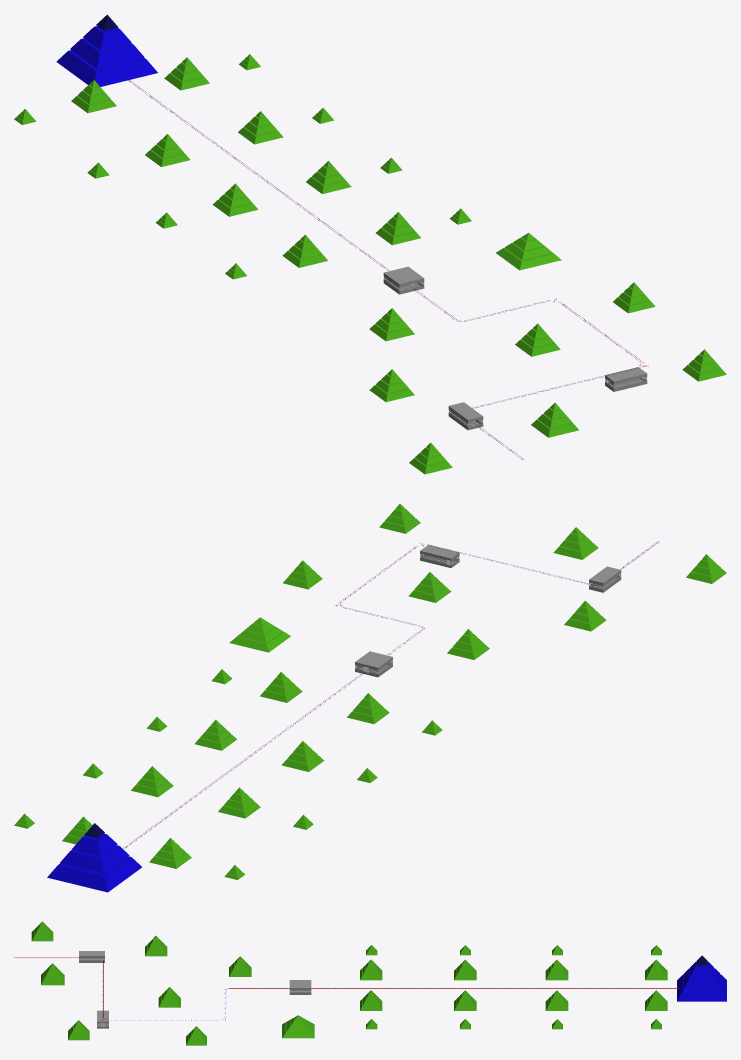
Rendered from Level.FBX.
The picture shows the model from 3 angles, top to bottom: view 1: azimuth 30°, elevation 25°; view 2: azimuth 150°, elevation 25°; view 3: azimuth 270°, elevation 25°; orthographic projection. The views are drawn at different scales.
Parts seen in each view (by area): view 1: Pyramid, Pyramid024, Pyramid002, Box003, Pyramid011, Pyramid012, Pyramid009, Pyramid010, Pyramid013, Pyramid006, Pyramid014, Pyramid015 (+6 smaller); view 2: Pyramid, Pyramid024, Pyramid002, Box003, Pyramid008, Pyramid010, Pyramid014, Pyramid015, Pyramid007, Pyramid009, Pyramid013, Pyramid011 (+6 smaller); view 3: Pyramid, Pyramid024, Pyramid002, Pyramid011, Pyramid013, Pyramid009, Pyramid015, Pyramid014, Pyramid006, Pyramid008, Pyramid003, Pyramid005 (+7 smaller).
Boxes of the visible parts, x1=… form: Pyramid: x1=56, y1=14, x2=157, y2=86; Pyramid024: x1=496, y1=232, x2=561, y2=270; Pyramid002: x1=531, y1=402, x2=578, y2=437; Box003: x1=383, y1=266, x2=424, y2=294; Pyramid011: x1=212, y1=183, x2=258, y2=216; Pyramid012: x1=164, y1=57, x2=209, y2=90; Pyramid009: x1=282, y1=234, x2=327, y2=267; Pyramid010: x1=306, y1=161, x2=351, y2=193; Pyramid013: x1=71, y1=80, x2=116, y2=113; Pyramid006: x1=515, y1=323, x2=560, y2=356; Pyramid014: x1=145, y1=134, x2=190, y2=166; Pyramid015: x1=238, y1=111, x2=283, y2=144; Pyramid: x1=47, y1=823, x2=141, y2=892; Pyramid024: x1=229, y1=617, x2=290, y2=652; Pyramid002: x1=553, y1=527, x2=598, y2=559; Box003: x1=355, y1=651, x2=392, y2=677; Pyramid008: x1=260, y1=672, x2=302, y2=702; Pyramid010: x1=194, y1=719, x2=236, y2=750; Pyramid014: x1=218, y1=787, x2=260, y2=818; Pyramid015: x1=131, y1=766, x2=173, y2=797; Pyramid007: x1=447, y1=629, x2=489, y2=659; Pyramid009: x1=347, y1=693, x2=389, y2=723; Pyramid013: x1=149, y1=838, x2=191, y2=868; Pyramid011: x1=281, y1=741, x2=324, y2=771; Pyramid: x1=677, y1=955, x2=726, y2=1001; Pyramid024: x1=282, y1=1015, x2=314, y2=1038; Pyramid002: x1=41, y1=963, x2=64, y2=985; Pyramid011: x1=454, y1=959, x2=476, y2=980; Pyramid013: x1=645, y1=959, x2=667, y2=980; Pyramid009: x1=360, y1=959, x2=382, y2=980; Pyramid015: x1=545, y1=990, x2=568, y2=1010; Pyramid014: x1=545, y1=960, x2=568, y2=980; Pyramid006: x1=158, y1=987, x2=180, y2=1007; Pyramid008: x1=360, y1=990, x2=382, y2=1010; Pyramid003: x1=145, y1=936, x2=167, y2=956; Pyramid005: x1=68, y1=1020, x2=89, y2=1040.
Bounding box in the file's own units: 22346 × 3946 × 59255.
